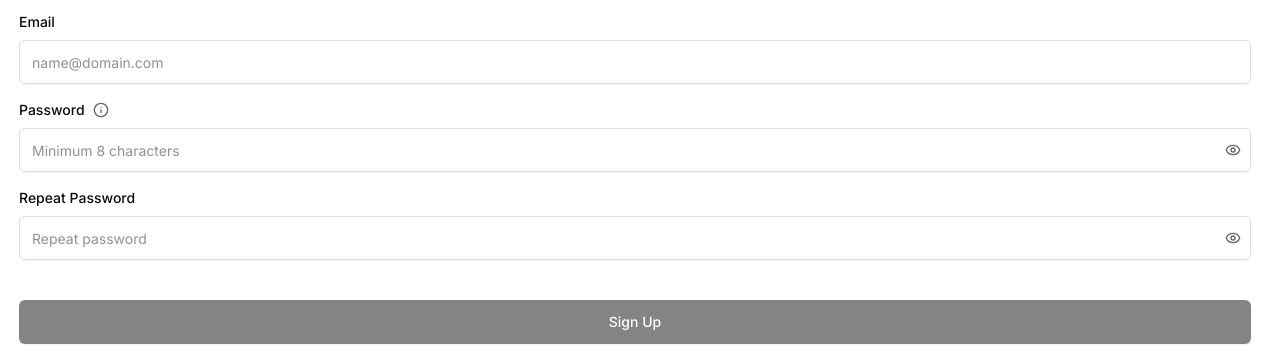
RegisterForm › should enable submit button when form is valid
Type "test@example.com" into the field labelled "Email".
click(635, 62); type("test@example.com")  # box x1=19 y1=40 x2=1251 y2=84
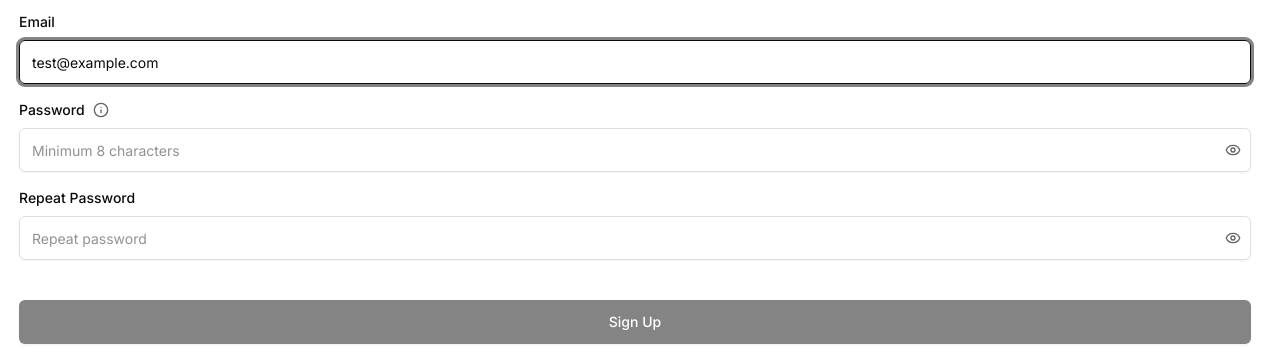
Type "Password123!" into the password field with placeholder "Minimum 8 characters".
click(635, 150); type("Password123!")  # box x1=19 y1=128 x2=1251 y2=172
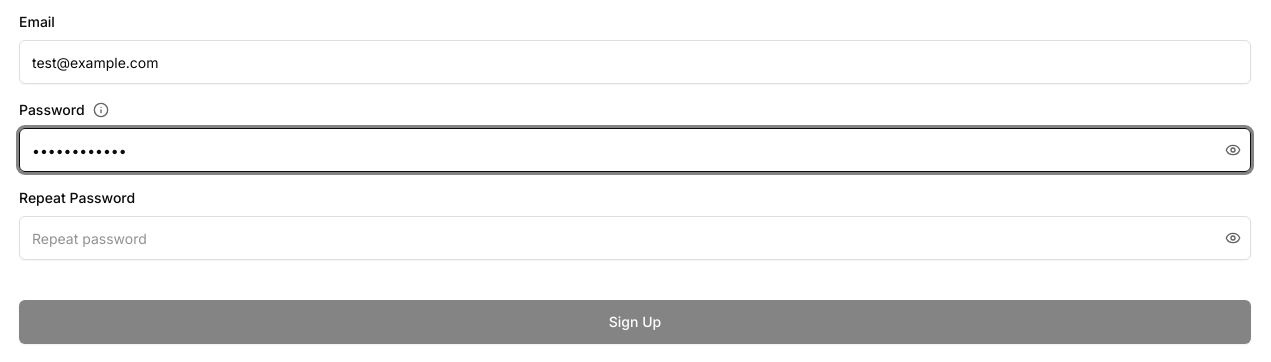
Type "Password123!" into the password field with placeholder "Repeat Password".
click(635, 238); type("Password123!")  # box x1=19 y1=216 x2=1251 y2=260
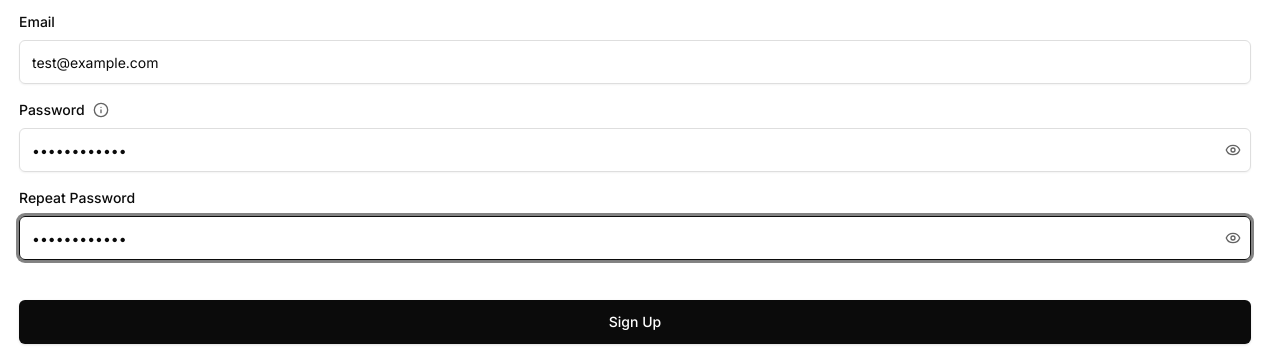
Expected: the button "Sign Up" is enabled, x1=19 y1=300 x2=1251 y2=344
